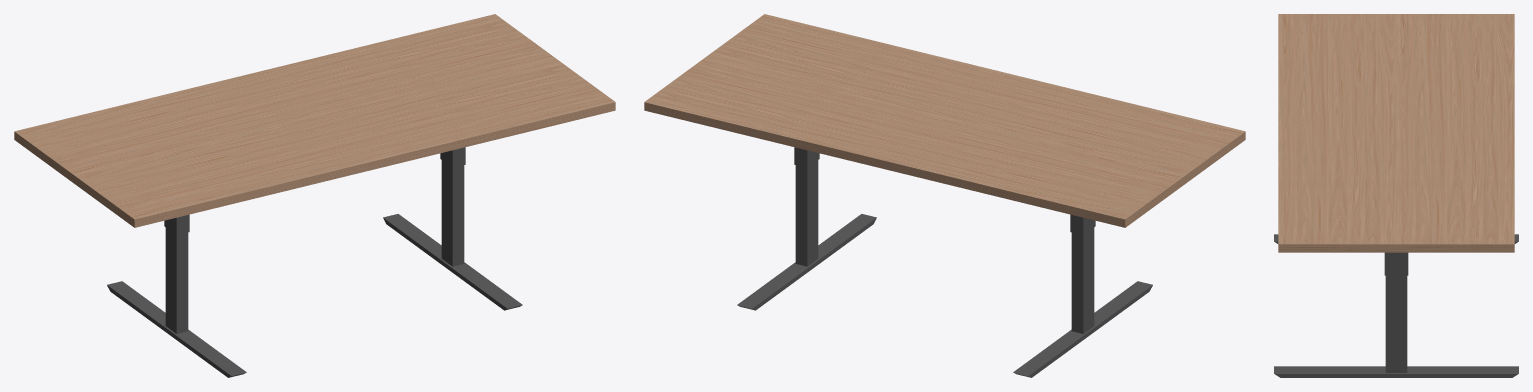
Rendered from simple_table.gltf.
3 renders of one model, left to right at view 1: azimuth 30°, elevation 25°; view 2: azimuth 150°, elevation 25°; view 3: azimuth 270°, elevation 25°, orthographic.
Parts seen in each view (by area): view 1: Cube, legs; view 2: Cube, legs; view 3: Cube, legs.
Part boxes in pixels (<box>): Cube: <box>14,14,615,227</box>; legs: <box>107,147,522,377</box>; Cube: <box>644,14,1245,227</box>; legs: <box>737,147,1152,377</box>; Cube: <box>1278,14,1514,252</box>; legs: <box>1274,234,1518,377</box>.
Bounding box in the file's own units: 1.63 × 0.5908 × 0.7327.
Materials: 2 (1 with a texture image).
